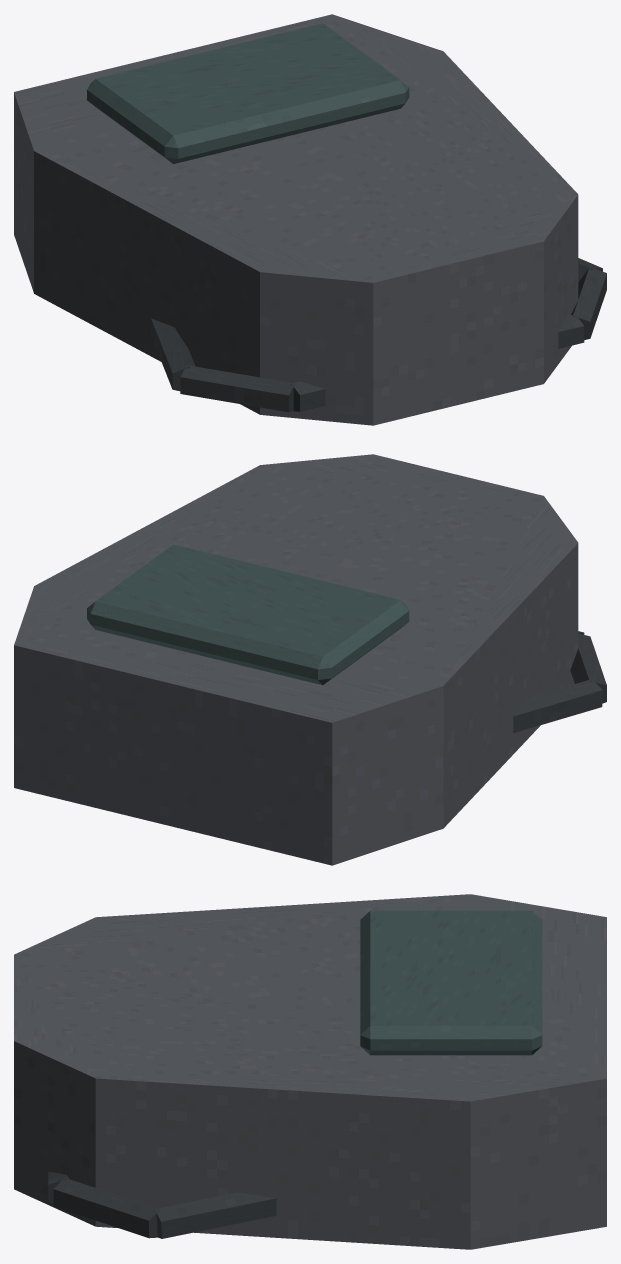
The model's file is welding_mask.glb.
3 views of the same model, one above another, from view 1: azimuth 30°, elevation 25°; view 2: azimuth 150°, elevation 25°; view 3: azimuth 270°, elevation 25° (orthographic). The views are drawn at different scales.
Visible parts, largest first — view 1: block_contoured face shell, block_dark welding window, block_strap 1, block_strap 0, block_strap 2, block_strap 3; view 2: block_contoured face shell, block_dark welding window, block_strap 0, block_strap 1; view 3: block_contoured face shell, block_dark welding window, block_strap 4, block_strap 3.
Boxes of the visible parts, left/top/right/bottom form: block_contoured face shell: left=14, top=14, right=578, bottom=425; block_dark welding window: left=87, top=23, right=409, bottom=163; block_strap 1: left=180, top=365, right=295, bottom=412; block_strap 0: left=151, top=318, right=195, bottom=391; block_strap 2: left=291, top=314, right=584, bottom=411; block_strap 3: left=571, top=267, right=606, bottom=339; block_contoured face shell: left=14, top=454, right=578, bottom=865; block_dark welding window: left=87, top=544, right=409, bottom=685; block_strap 0: left=513, top=679, right=602, bottom=733; block_strap 1: left=570, top=633, right=606, bottom=703; block_contoured face shell: left=14, top=894, right=606, bottom=1249; block_dark welding window: left=360, top=910, right=542, bottom=1055; block_strap 4: left=154, top=1192, right=276, bottom=1238; block_strap 3: left=53, top=1178, right=160, bottom=1238.
Bounding box in the file's own units: 0.2959 × 0.1126 × 0.34.
1 material, 1 textured.
